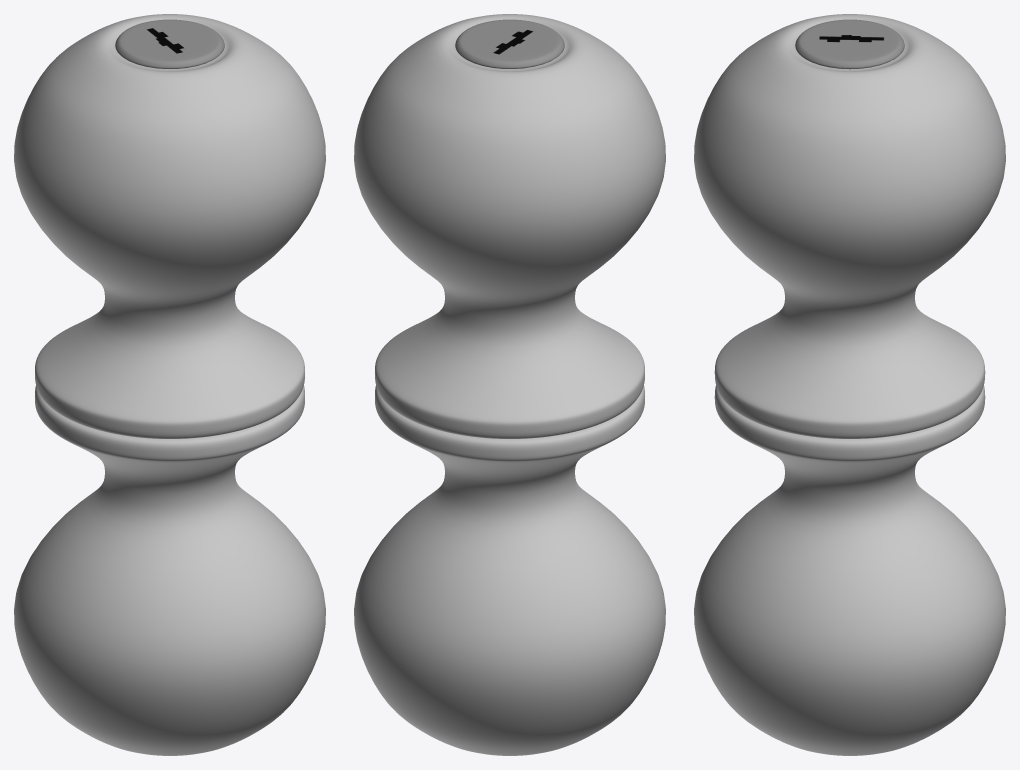
File: door_knobs.fbx
The picture shows the model from 3 angles, left to right: view 1: azimuth 30°, elevation 25°; view 2: azimuth 150°, elevation 25°; view 3: azimuth 270°, elevation 25°; orthographic projection.
Visible parts, largest first — view 1: door_knobB, door_knobA, key_holeB; view 2: door_knobB, door_knobA, key_holeB; view 3: door_knobB, door_knobA, key_holeB.
Boxes of the visible parts, x1,y1,x2,y2 form: door_knobB: [14, 14, 325, 438]; door_knobA: [14, 385, 325, 755]; key_holeB: [115, 19, 224, 68]; door_knobB: [354, 14, 665, 438]; door_knobA: [354, 385, 665, 755]; key_holeB: [455, 19, 564, 68]; door_knobB: [694, 14, 1005, 438]; door_knobA: [694, 385, 1005, 755]; key_holeB: [795, 19, 904, 69].
Size of the model in its own units: 30.51 by 74.35 by 30.51.
